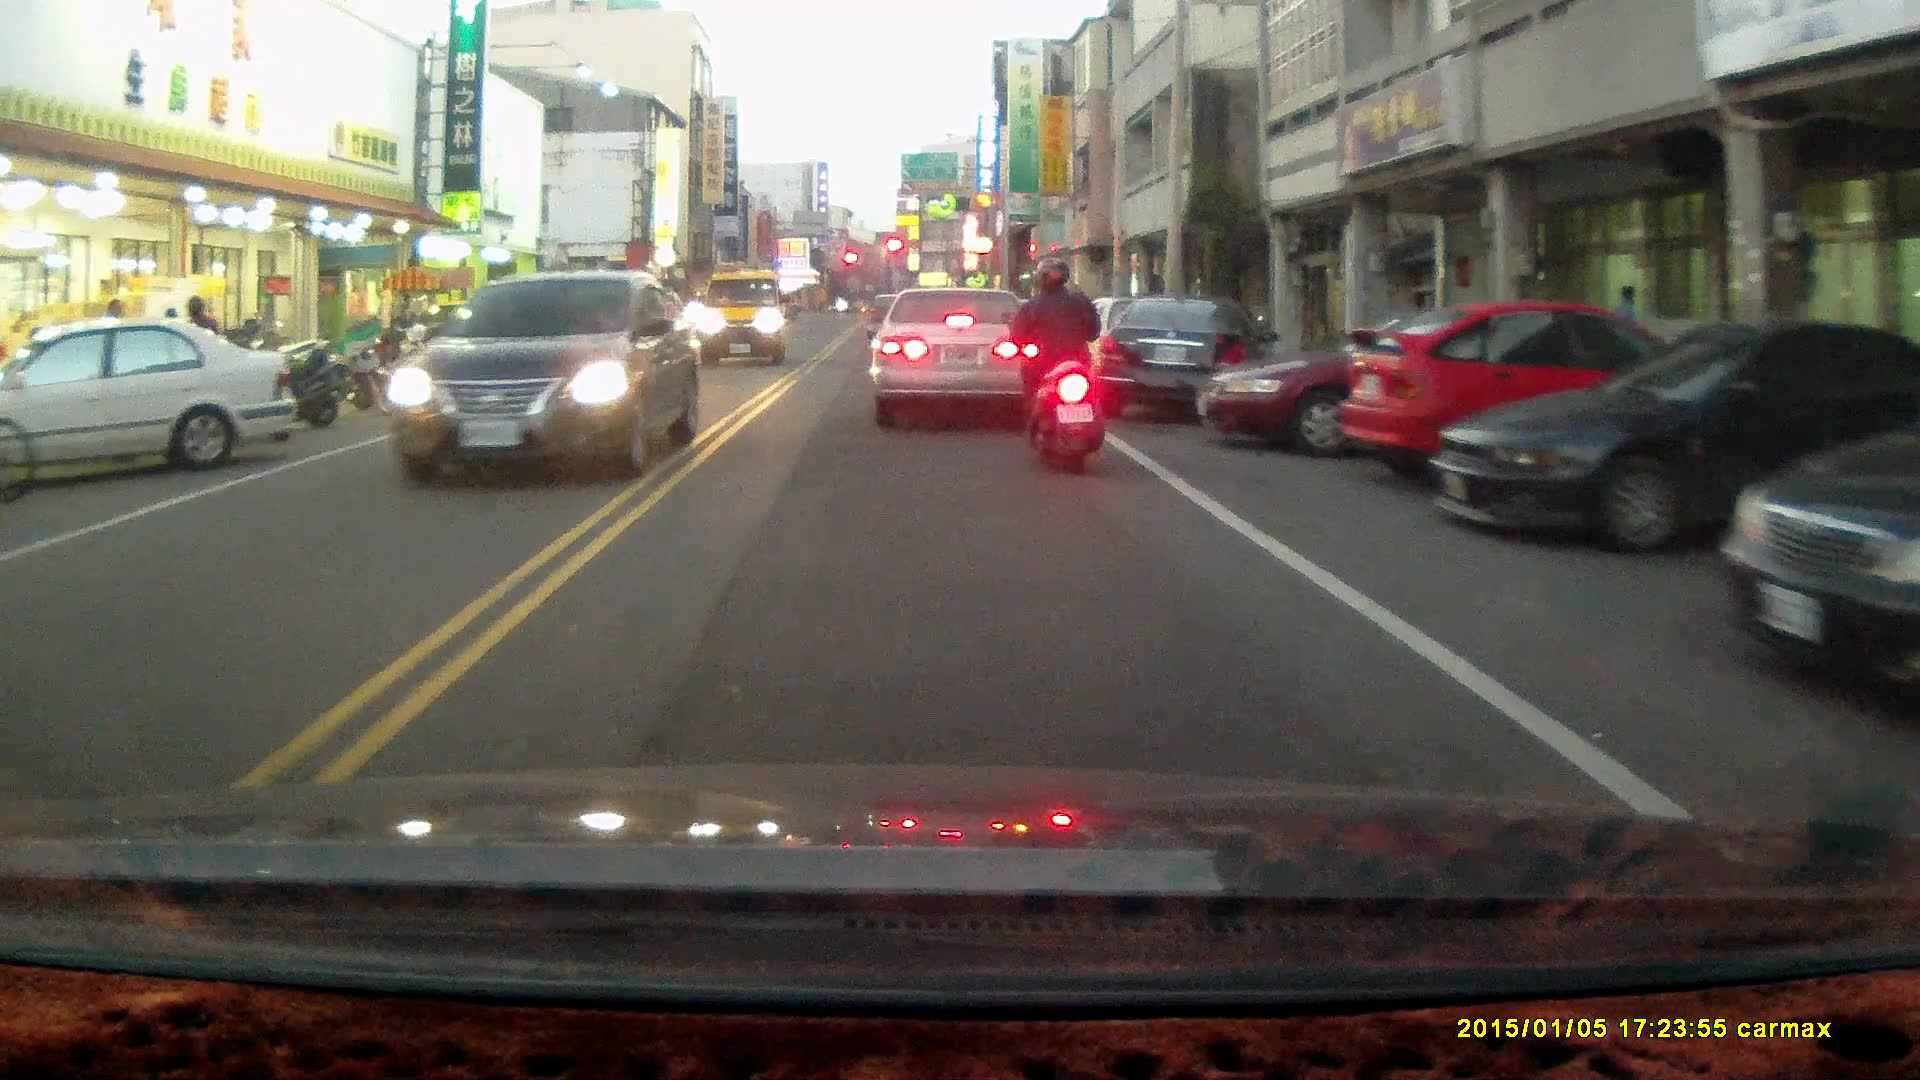rider: (1000, 255, 1112, 476)
vehicle: (1428, 318, 1910, 557), (1337, 299, 1737, 490), (1706, 360, 1920, 704), (388, 268, 701, 486), (1190, 318, 1612, 458), (1, 320, 303, 479), (867, 285, 1043, 421), (1088, 294, 1252, 422), (696, 270, 787, 367)
